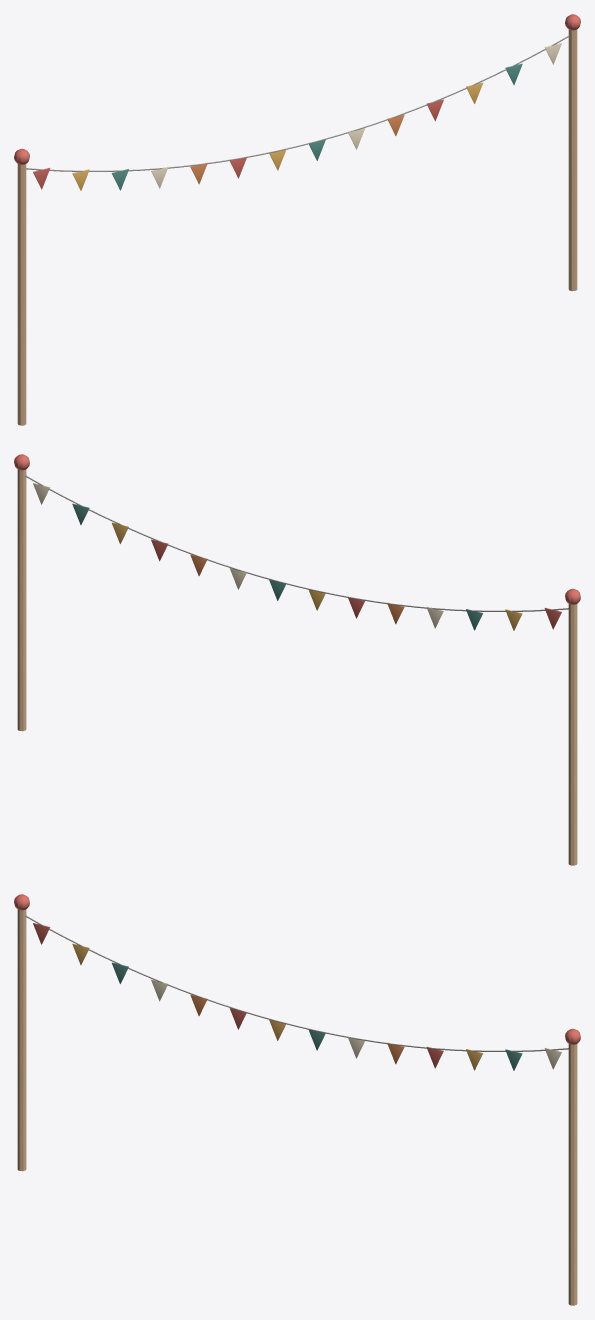
The model's file is FairBunting.fbx.
The picture shows the model from 3 angles, top to bottom: view 1: azimuth 30°, elevation 25°; view 2: azimuth 150°, elevation 25°; view 3: azimuth 330°, elevation 25°; orthographic projection.
Parts seen in each view (by area): view 1: FairBunting; view 2: FairBunting; view 3: FairBunting.
Part boxes in pixels (<box>): FairBunting: <box>14,14,580,425</box>; FairBunting: <box>14,454,580,865</box>; FairBunting: <box>14,894,580,1305</box>.
Size of the model in its own units: 717 by 333 by 18.
